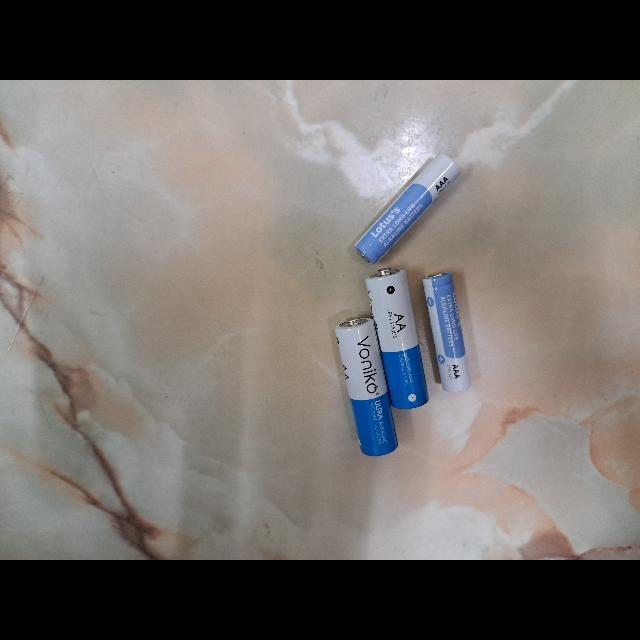bateria: (354, 151, 458, 267), (364, 268, 430, 410), (336, 316, 400, 456), (422, 272, 472, 392)
